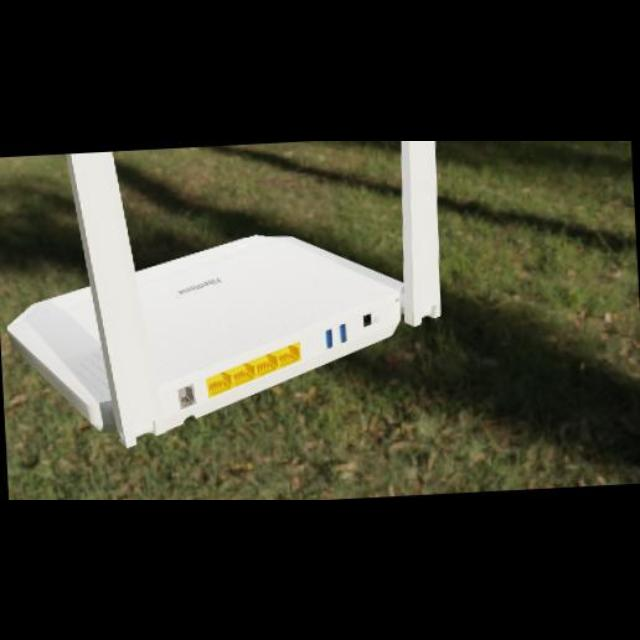Router: (8, 140, 446, 450)
